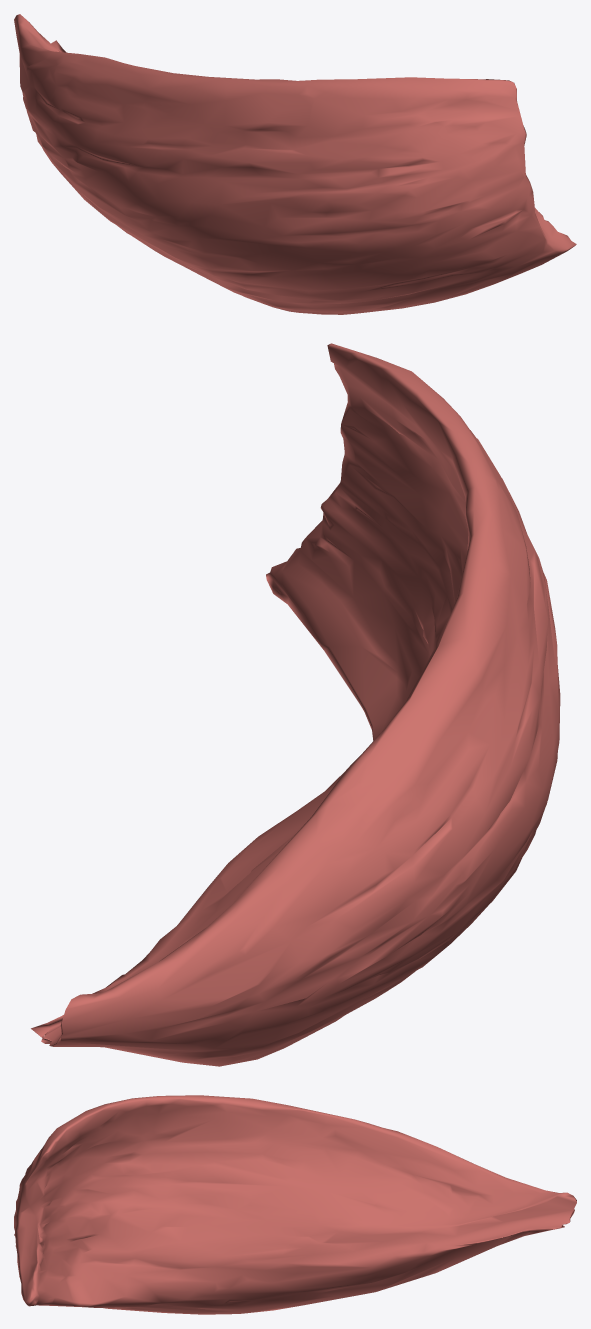
3 views of the same model, one above another, from view 1: azimuth 30°, elevation 25°; view 2: azimuth 150°, elevation 25°; view 3: azimuth 270°, elevation 25° (orthographic). The views are drawn at different scales.
Visible parts, largest first — view 1: 右侧三角肌肩峰部; view 2: 右侧三角肌肩峰部; view 3: 右侧三角肌肩峰部.
Part boxes in pixels (x1=…): 右侧三角肌肩峰部: x1=14, y1=14, x2=576, y2=314; 右侧三角肌肩峰部: x1=31, y1=343, x2=560, y2=1066; 右侧三角肌肩峰部: x1=14, y1=1095, x2=576, y2=1314.
Size of the model in its own units: 0.1112 by 0.0934 by 0.2175.
